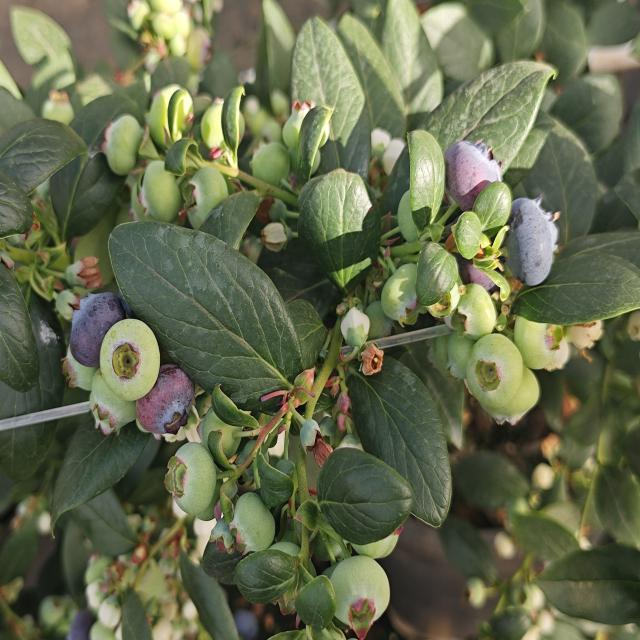ripe: (502, 193, 559, 290), (441, 137, 504, 214), (66, 290, 126, 370), (134, 362, 196, 439), (451, 242, 507, 297), (226, 602, 266, 640), (63, 604, 100, 640)
